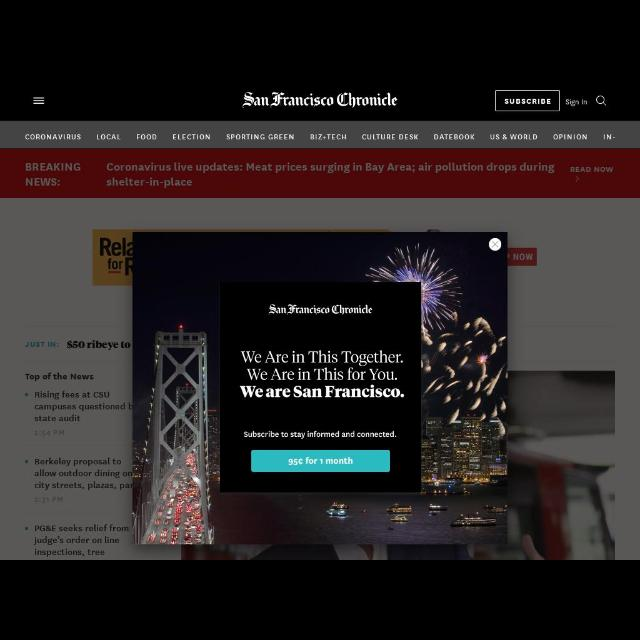icon: (596, 96, 606, 106), (34, 98, 44, 104), (575, 175, 579, 182)
iframe: (134, 232, 508, 546)
image: (242, 92, 398, 108)
multitab: (1, 122, 639, 148)
text: (106, 163, 554, 189), (34, 524, 130, 558), (34, 458, 132, 490), (36, 392, 132, 422), (26, 164, 80, 186), (25, 372, 93, 382), (67, 340, 131, 350), (228, 134, 294, 140), (25, 134, 81, 140), (363, 134, 419, 140), (490, 134, 538, 140), (505, 98, 551, 104), (570, 167, 614, 173), (434, 134, 474, 140), (34, 496, 62, 504), (173, 134, 210, 140), (311, 134, 347, 140), (34, 429, 64, 436), (554, 134, 588, 140), (25, 341, 59, 347), (96, 134, 122, 140), (566, 100, 588, 106), (137, 134, 157, 140), (603, 134, 615, 140)
textbutton: (495, 91, 559, 111)
toolbar: (1, 81, 640, 121)
